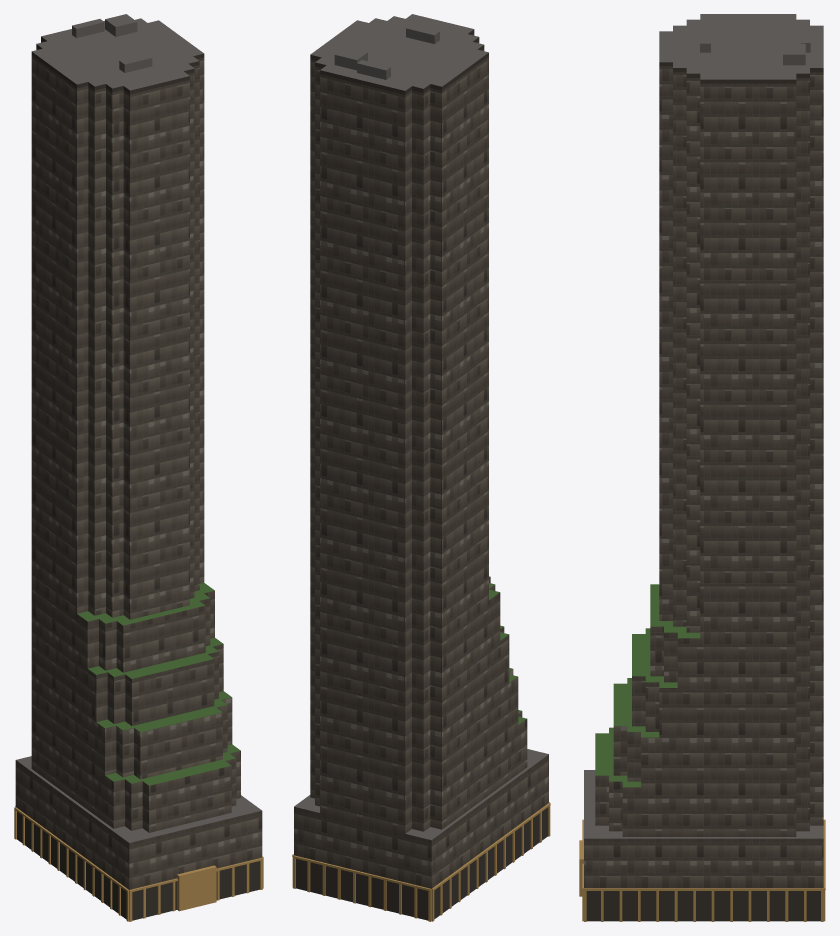
The model's file is trump_tower.glb.
3 renders of one model, left to right at view 1: azimuth 30°, elevation 25°; view 2: azimuth 150°, elevation 25°; view 3: azimuth 270°, elevation 25°, orthographic. The views are drawn at different scales.
Parts seen in each view (by area): view 1: trump_tower; view 2: trump_tower; view 3: trump_tower.
Part boxes in pixels (<box>): trump_tower: <box>14,14,263,921</box>; trump_tower: <box>292,14,550,921</box>; trump_tower: <box>579,14,825,921</box>.
Size of the model in its own units: 36.31 by 206 by 53.9.
2 materials, 2 textured.
